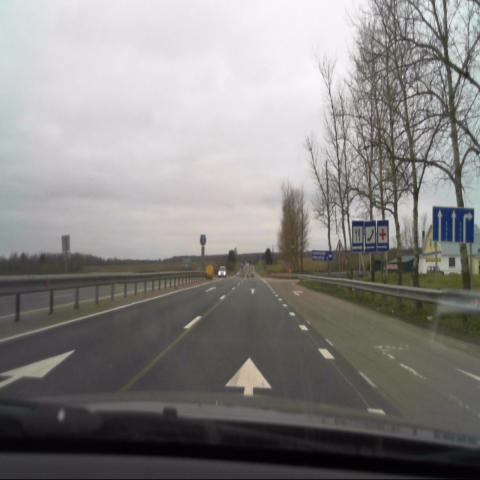7_1: (378, 220, 389, 251)
7_6: (365, 222, 376, 251)
7_7: (351, 221, 363, 251)
